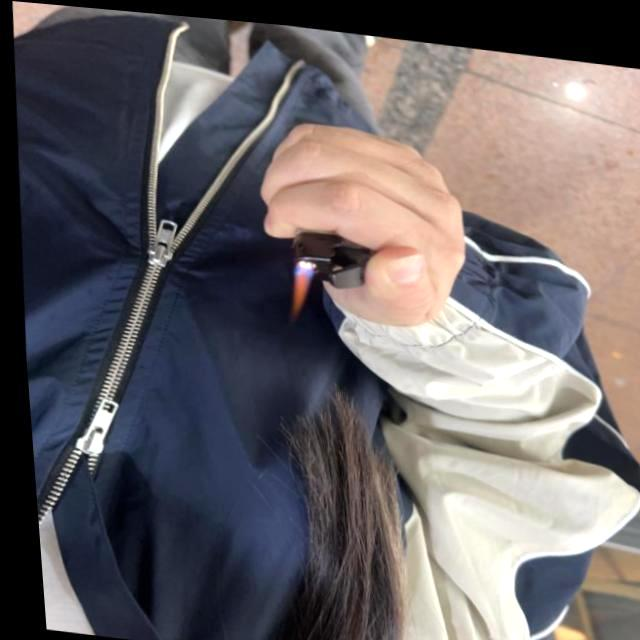fire: (282, 252, 310, 316)
